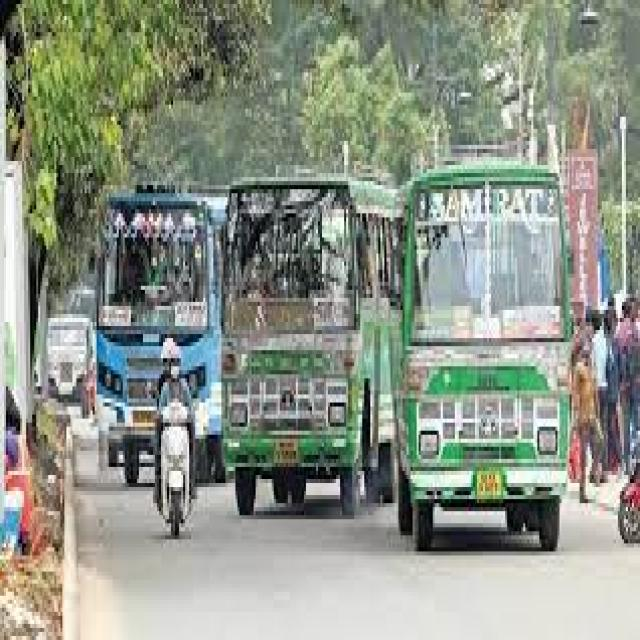bus: (262, 247, 383, 640)
person: (11, 493, 52, 640)
